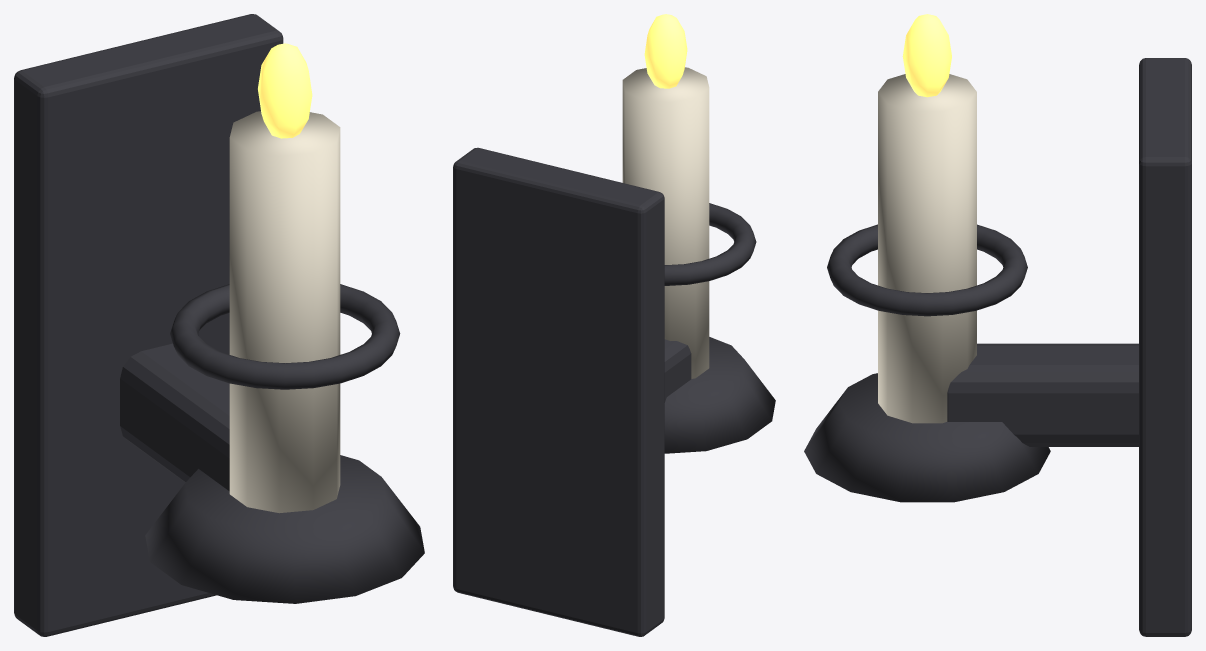
Rendered from sconce_iron_single.glb.
The picture shows the model from 3 angles, left to right: view 1: azimuth 30°, elevation 25°; view 2: azimuth 150°, elevation 25°; view 3: azimuth 270°, elevation 25°; orthographic projection. The views are drawn at different scales.
Parts seen in each view (by area): view 1: GD_sconce_iron_single__m0, GD_sconce_iron_single__m1, GD_sconce_iron_single__m2; view 2: GD_sconce_iron_single__m0, GD_sconce_iron_single__m1, GD_sconce_iron_single__m2; view 3: GD_sconce_iron_single__m0, GD_sconce_iron_single__m1, GD_sconce_iron_single__m2.
Boxes of the visible parts, x1=… form: GD_sconce_iron_single__m0: x1=14, y1=14, x2=424, y2=636; GD_sconce_iron_single__m1: x1=229, y1=111, x2=340, y2=513; GD_sconce_iron_single__m2: x1=258, y1=43, x2=312, y2=138; GD_sconce_iron_single__m0: x1=453, y1=147, x2=775, y2=636; GD_sconce_iron_single__m1: x1=622, y1=67, x2=709, y2=378; GD_sconce_iron_single__m2: x1=644, y1=14, x2=687, y2=88; GD_sconce_iron_single__m0: x1=804, y1=58, x2=1191, y2=636; GD_sconce_iron_single__m1: x1=878, y1=74, x2=976, y2=423; GD_sconce_iron_single__m2: x1=902, y1=14, x2=951, y2=97.
Size of the model in its own units: 0.14 by 0.3586 by 0.22.
